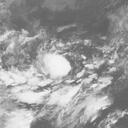cyclone: (42, 53, 71, 80)
